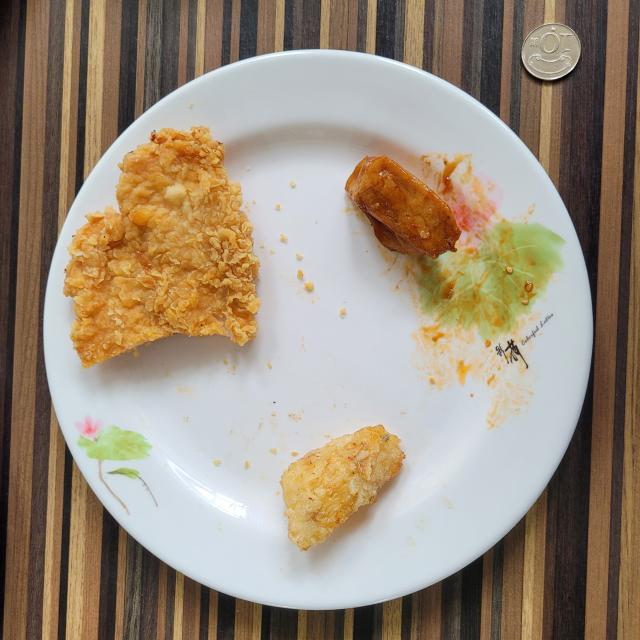coin: (521, 24, 581, 80)
creamy tofu: (345, 155, 461, 259)
fried chicken cutlet: (64, 126, 260, 368)
fried potato: (280, 425, 405, 550)
